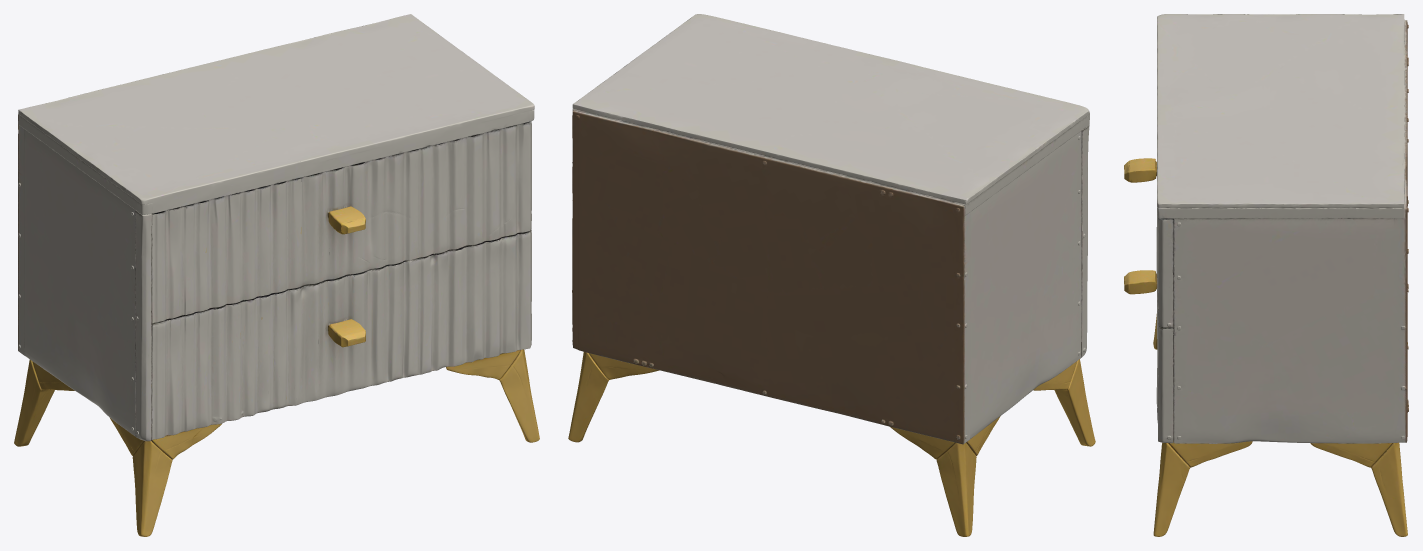
File: No Name-01.glb
3 views of the same model, side by side, from view 1: azimuth 30°, elevation 25°; view 2: azimuth 150°, elevation 25°; view 3: azimuth 270°, elevation 25° (orthographic).
Visible parts, largest first — view 1: tripo_node_e35d87f7-f520-41b2-aaf1-7cea69f7fdee; view 2: tripo_node_e35d87f7-f520-41b2-aaf1-7cea69f7fdee; view 3: tripo_node_e35d87f7-f520-41b2-aaf1-7cea69f7fdee.
Boxes of the visible parts, <box> form: tripo_node_e35d87f7-f520-41b2-aaf1-7cea69f7fdee: <box>14,14,539,536</box>; tripo_node_e35d87f7-f520-41b2-aaf1-7cea69f7fdee: <box>568,14,1095,536</box>; tripo_node_e35d87f7-f520-41b2-aaf1-7cea69f7fdee: <box>1124,14,1408,536</box>.
Size of the model in its own units: 0.9805 by 0.7898 by 0.6117.
1 material, 1 textured.
